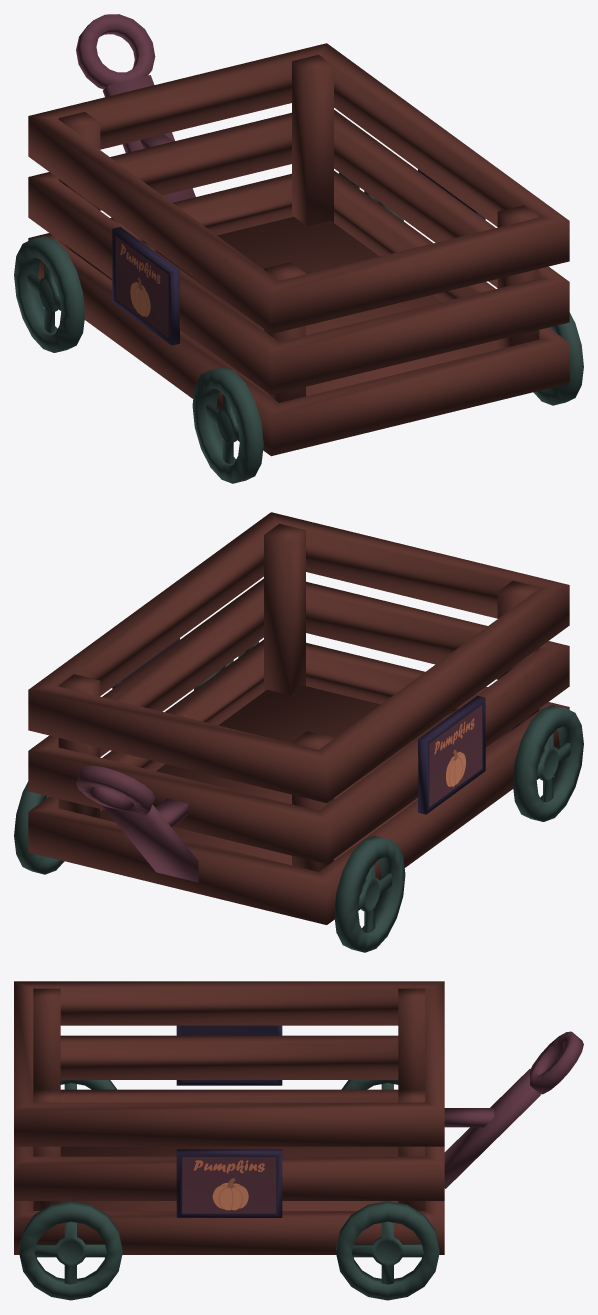
The model's file is pumpkin_cart.glb.
3 views of the same model, one above another, from view 1: azimuth 30°, elevation 25°; view 2: azimuth 150°, elevation 25°; view 3: azimuth 270°, elevation 25° (orthographic). The views are drawn at different scales.
Parts seen in each view (by area): view 1: Cart, FrontRight, BackRight, Banners, FrontLeft; view 2: Cart, BackRight, FrontRight, Banners, BackLeft; view 3: Cart, Banners, FrontLeft, BackLeft, BackRight, FrontRight.
Part boxes in pixels (<box>): Cart: <box>28,14,569,456</box>; FrontRight: <box>192,367,263,483</box>; BackRight: <box>14,236,85,352</box>; Banners: <box>112,169,485,345</box>; FrontLeft: <box>533,312,583,405</box>; Cart: <box>28,512,569,924</box>; BackRight: <box>334,836,405,952</box>; FrontRight: <box>512,705,583,821</box>; Banners: <box>112,638,485,814</box>; BackLeft: <box>14,781,64,874</box>; Cart: <box>14,981,583,1254</box>; Banners: <box>176,1025,282,1217</box>; FrontLeft: <box>19,1201,122,1300</box>; BackLeft: <box>336,1201,439,1300</box>; BackRight: <box>341,1080,398,1089</box>; FrontRight: <box>60,1080,116,1089</box>.
Bounding box in the file's own units: 5.22 × 3.2 × 8.59.
Materials: 7 (1 with a texture image).
